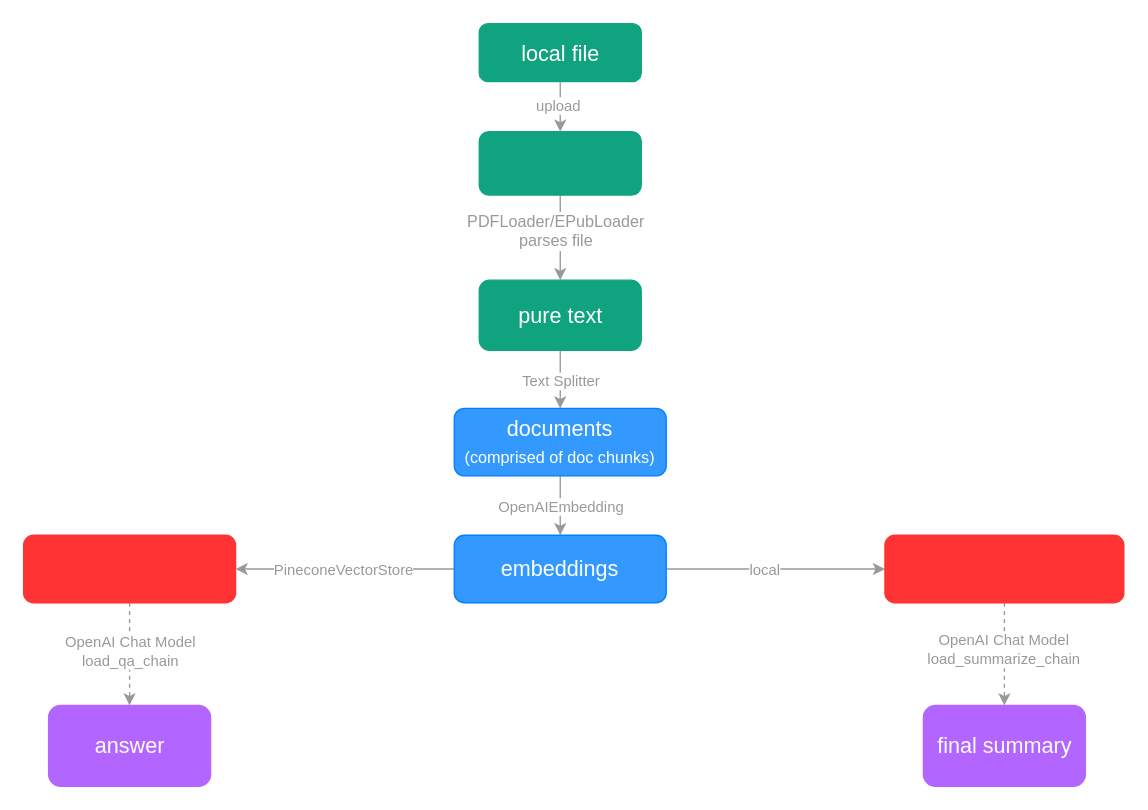
Image size: 1148x810. Some labels were removed from this diagram. Each missing label, with the centre of its shape:
file on the cloud: [559,162]
vectors store: [129,568]
vectors store (the numbers of vectors equals to docs): [1004,568]
